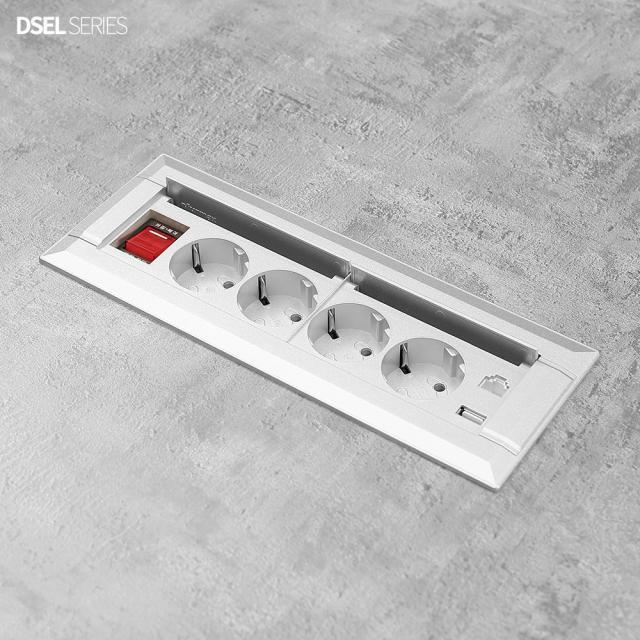typeb: (44, 141, 606, 519)
